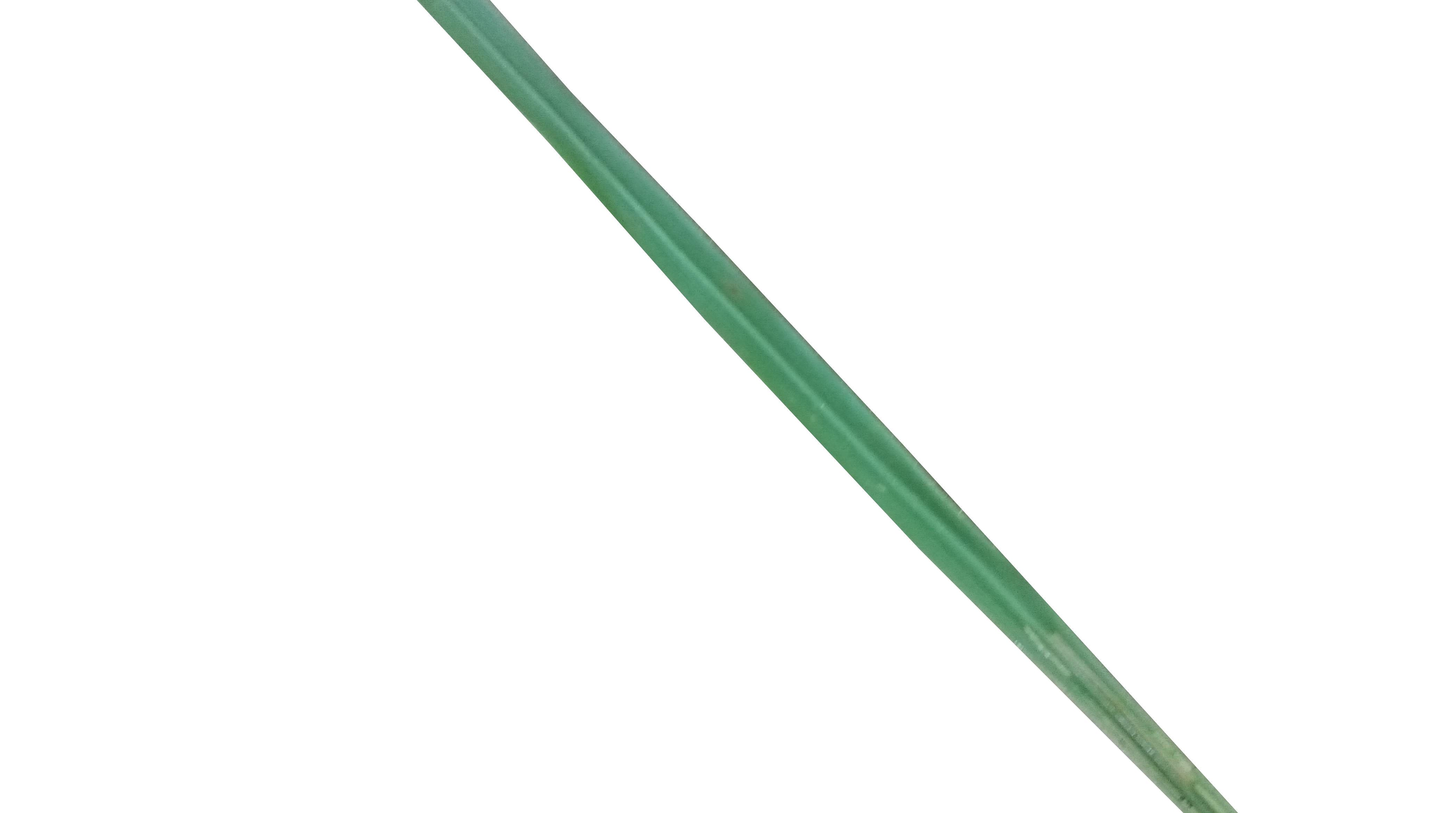Brown spot: (726, 279, 742, 303)
